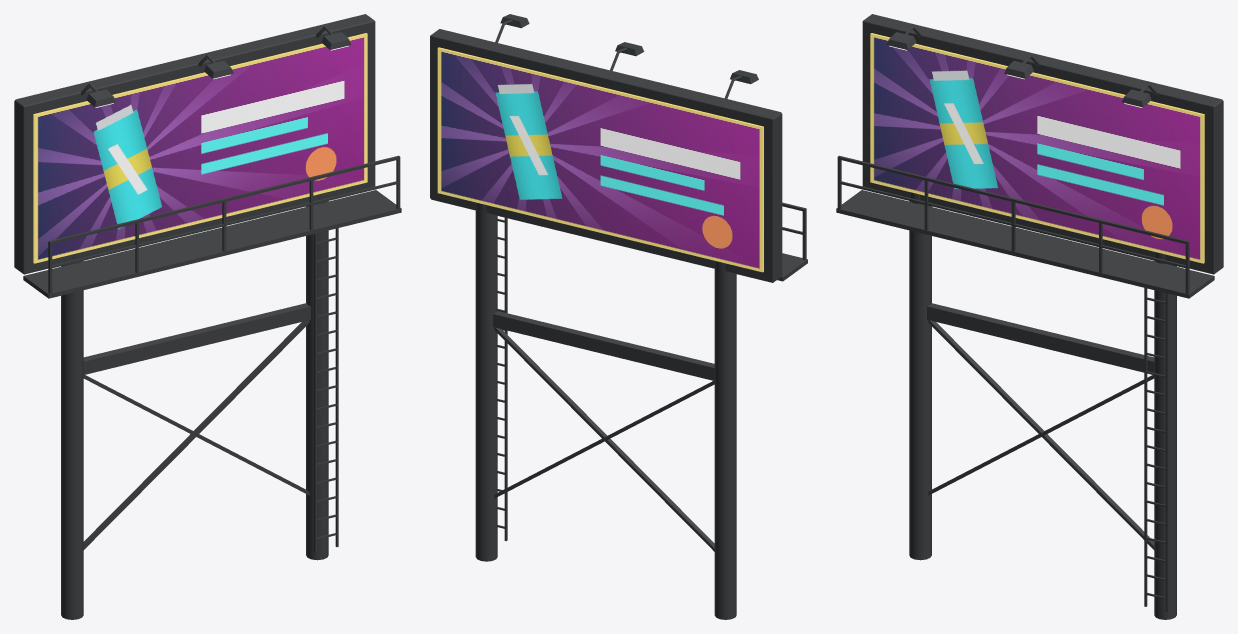
The model's file is sign.glb.
The picture shows the model from 3 angles, left to right: view 1: azimuth 30°, elevation 25°; view 2: azimuth 150°, elevation 25°; view 3: azimuth 330°, elevation 25°; orthographic projection. The views are drawn at different scales.
Visible parts, largest first — view 1: Sign_Intact; view 2: Sign_Intact; view 3: Sign_Intact.
Boxes of the visible parts, x1,y1,x2,y2 form: Sign_Intact: (14,14,401,619); Sign_Intact: (430,14,807,619); Sign_Intact: (836,14,1223,619).
Size of the model in its own units: 7.2 by 10.52 by 1.28.
Materials: 3 (1 with a texture image).
